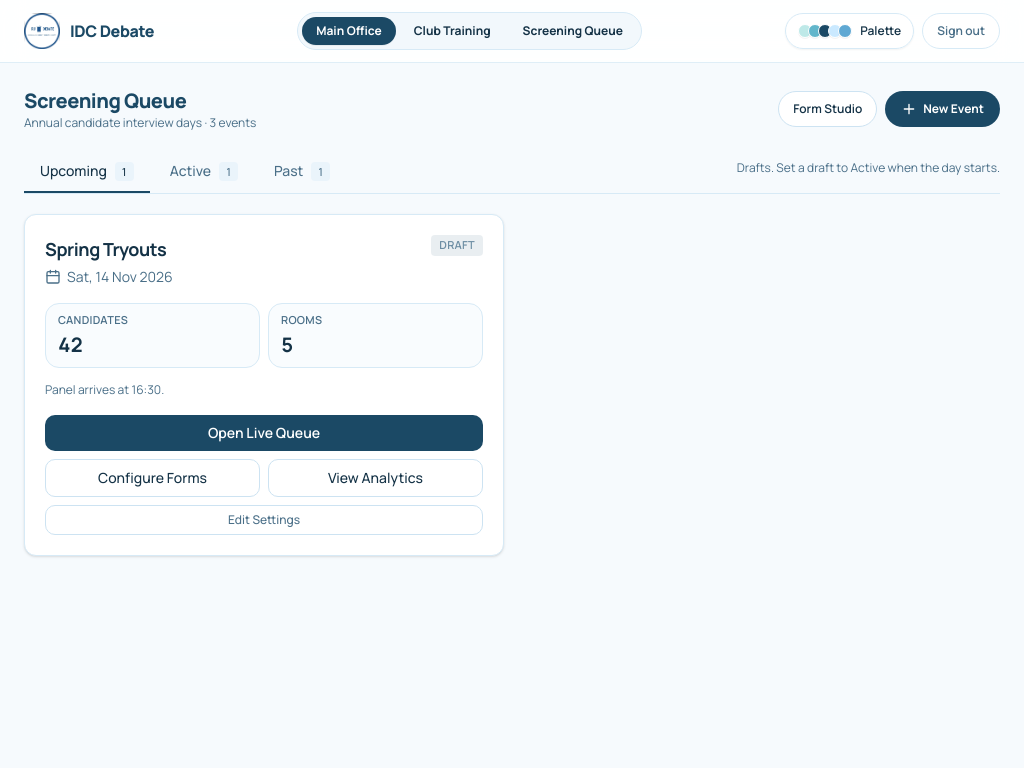
Test: EventHub › keeps the three lifecycle groups separate, newest past first
Click the tab "Active1". click: point(204, 172)
box: [154,151,254,193]
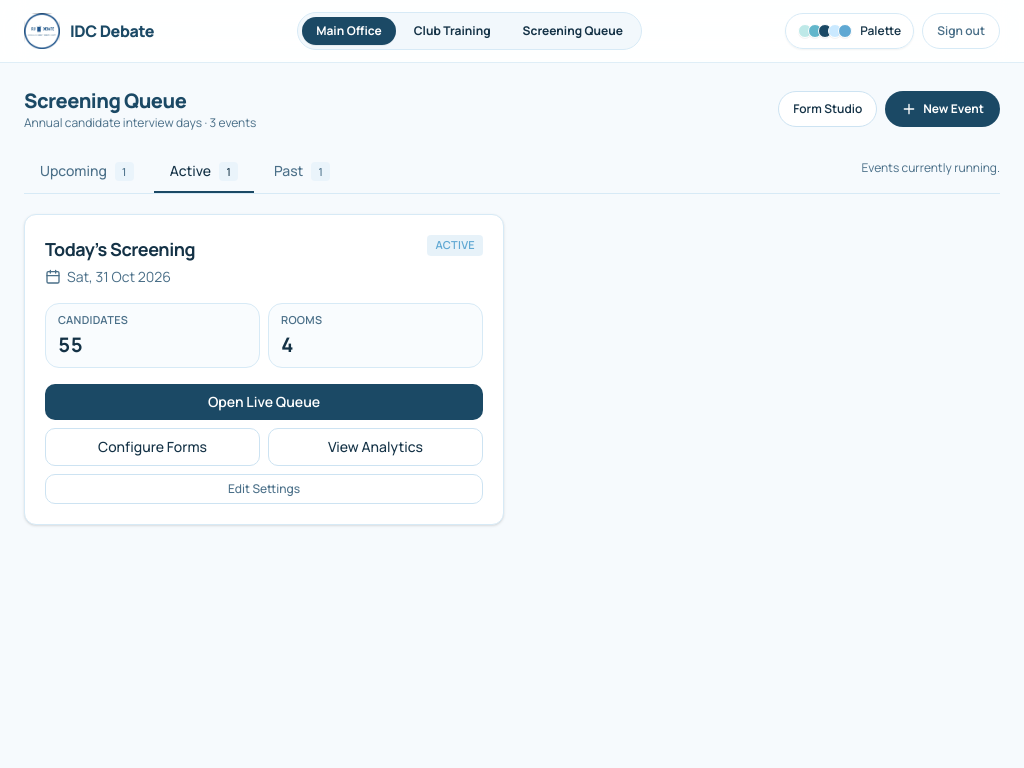
Now the heading "Today’s Screening" is shown, box [45,235,195,263]
Now the heading "Spring Tryouts" is gone
Click the tab "Past1". click: point(302, 172)
box: [258,151,346,193]
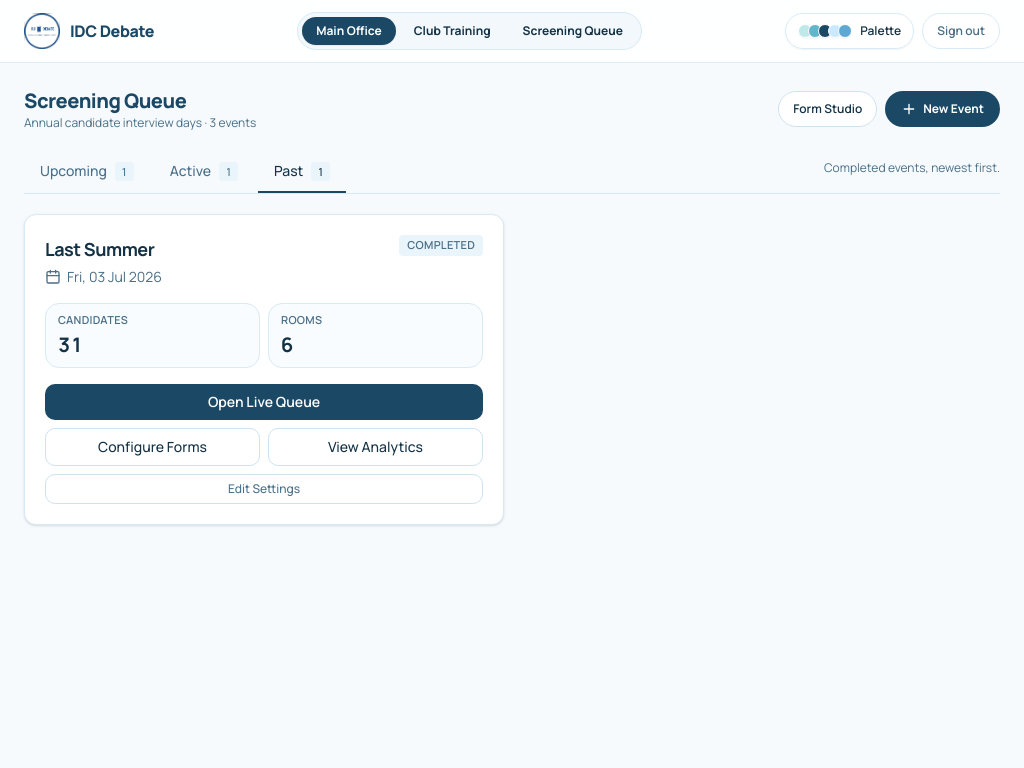
Now the heading "Last Summer" is shown, box [45,235,162,263]
Now the heading "Today’s Screening" is gone
